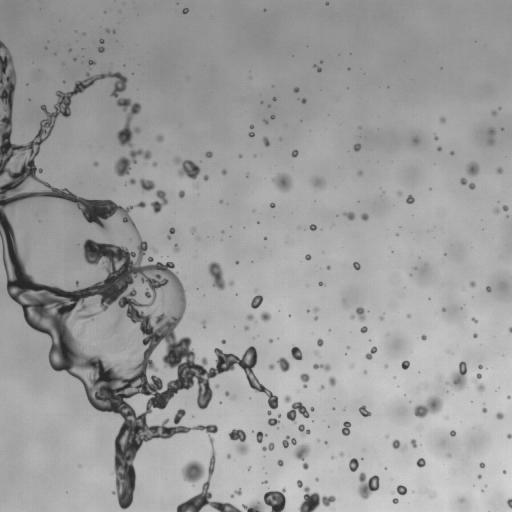droplet: (297, 480, 335, 511), (414, 395, 443, 418), (446, 361, 467, 391), (174, 157, 200, 179), (357, 472, 379, 498), (286, 402, 314, 422), (181, 460, 204, 484), (228, 429, 249, 454), (272, 173, 292, 192), (294, 444, 309, 469), (151, 190, 167, 213), (139, 178, 155, 191), (466, 162, 479, 176), (277, 357, 289, 372), (250, 295, 263, 308), (282, 436, 296, 447), (392, 439, 406, 450), (359, 405, 371, 417), (298, 424, 310, 436), (312, 177, 325, 188), (291, 346, 302, 359), (355, 307, 365, 321), (300, 373, 309, 388), (341, 421, 350, 435), (260, 311, 271, 322), (349, 458, 358, 471), (262, 442, 274, 451), (396, 485, 406, 495), (256, 431, 265, 442), (343, 212, 354, 220), (267, 418, 279, 425), (416, 458, 425, 467), (328, 376, 336, 386), (401, 360, 409, 369), (406, 195, 414, 203), (353, 143, 360, 151), (291, 149, 298, 157), (263, 137, 269, 146), (156, 134, 163, 141), (361, 213, 368, 220), (353, 262, 360, 269), (360, 326, 367, 333), (284, 395, 291, 402), (496, 412, 503, 419), (178, 190, 184, 198), (317, 338, 323, 346), (410, 439, 416, 447), (205, 151, 212, 157), (309, 224, 316, 230), (247, 314, 254, 320), (174, 244, 179, 252), (98, 46, 104, 52), (412, 137, 418, 143), (129, 178, 135, 184), (502, 205, 508, 211), (305, 254, 311, 260), (277, 460, 283, 466), (182, 8, 188, 13), (293, 87, 299, 92), (491, 110, 497, 115), (248, 132, 254, 137), (497, 167, 502, 173), (486, 286, 491, 292), (471, 317, 477, 322), (268, 364, 274, 369), (450, 430, 455, 436), (479, 462, 484, 468), (458, 497, 464, 502), (392, 498, 398, 503), (301, 98, 306, 103), (440, 117, 445, 122), (203, 175, 208, 180), (470, 281, 475, 286), (244, 325, 249, 330), (421, 335, 426, 340), (131, 350, 136, 355), (88, 60, 94, 64), (269, 203, 275, 207), (99, 39, 104, 43), (434, 135, 438, 140), (94, 161, 98, 166), (222, 169, 226, 174), (357, 171, 362, 175), (494, 208, 498, 213), (191, 227, 195, 232), (318, 281, 323, 285), (314, 307, 318, 312), (482, 408, 487, 412), (202, 321, 205, 327), (270, 115, 274, 119), (437, 147, 441, 151), (152, 162, 156, 166), (229, 281, 233, 285), (350, 315, 354, 319), (473, 333, 477, 337), (478, 365, 482, 369), (225, 391, 229, 395), (507, 434, 511, 438), (264, 120, 268, 123), (450, 151, 454, 154), (327, 265, 330, 269), (314, 316, 317, 320), (379, 316, 383, 319), (222, 339, 225, 343), (314, 351, 318, 354), (477, 475, 481, 478), (263, 480, 267, 483), (273, 97, 276, 100), (250, 125, 253, 128), (398, 192, 401, 195), (442, 308, 445, 311), (407, 314, 410, 317), (269, 339, 272, 342), (215, 384, 218, 387), (321, 386, 324, 389), (340, 452, 343, 455), (227, 454, 230, 457), (447, 454, 450, 457), (503, 470, 506, 473), (239, 154, 241, 158), (418, 387, 420, 391), (106, 30, 109, 32), (220, 200, 222, 203), (307, 309, 309, 312), (384, 365, 387, 367), (364, 370, 366, 373), (507, 396, 510, 398), (324, 441, 327, 443), (315, 478, 318, 480), (326, 2, 328, 4), (154, 249, 156, 251), (236, 261, 238, 263), (347, 347, 349, 349), (231, 397, 233, 399), (278, 414, 280, 416), (445, 416, 447, 418), (248, 467, 250, 469), (431, 494, 433, 496)
ligament: (0, 41, 269, 511), (242, 488, 286, 511), (208, 262, 225, 290), (473, 373, 484, 391), (460, 178, 475, 189), (365, 346, 377, 359), (487, 127, 495, 144), (313, 364, 330, 370), (230, 488, 241, 497), (167, 227, 174, 239), (314, 65, 321, 71), (507, 498, 511, 508), (509, 327, 511, 333)
